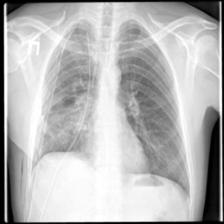tuberculosis: (29, 11, 193, 201)
